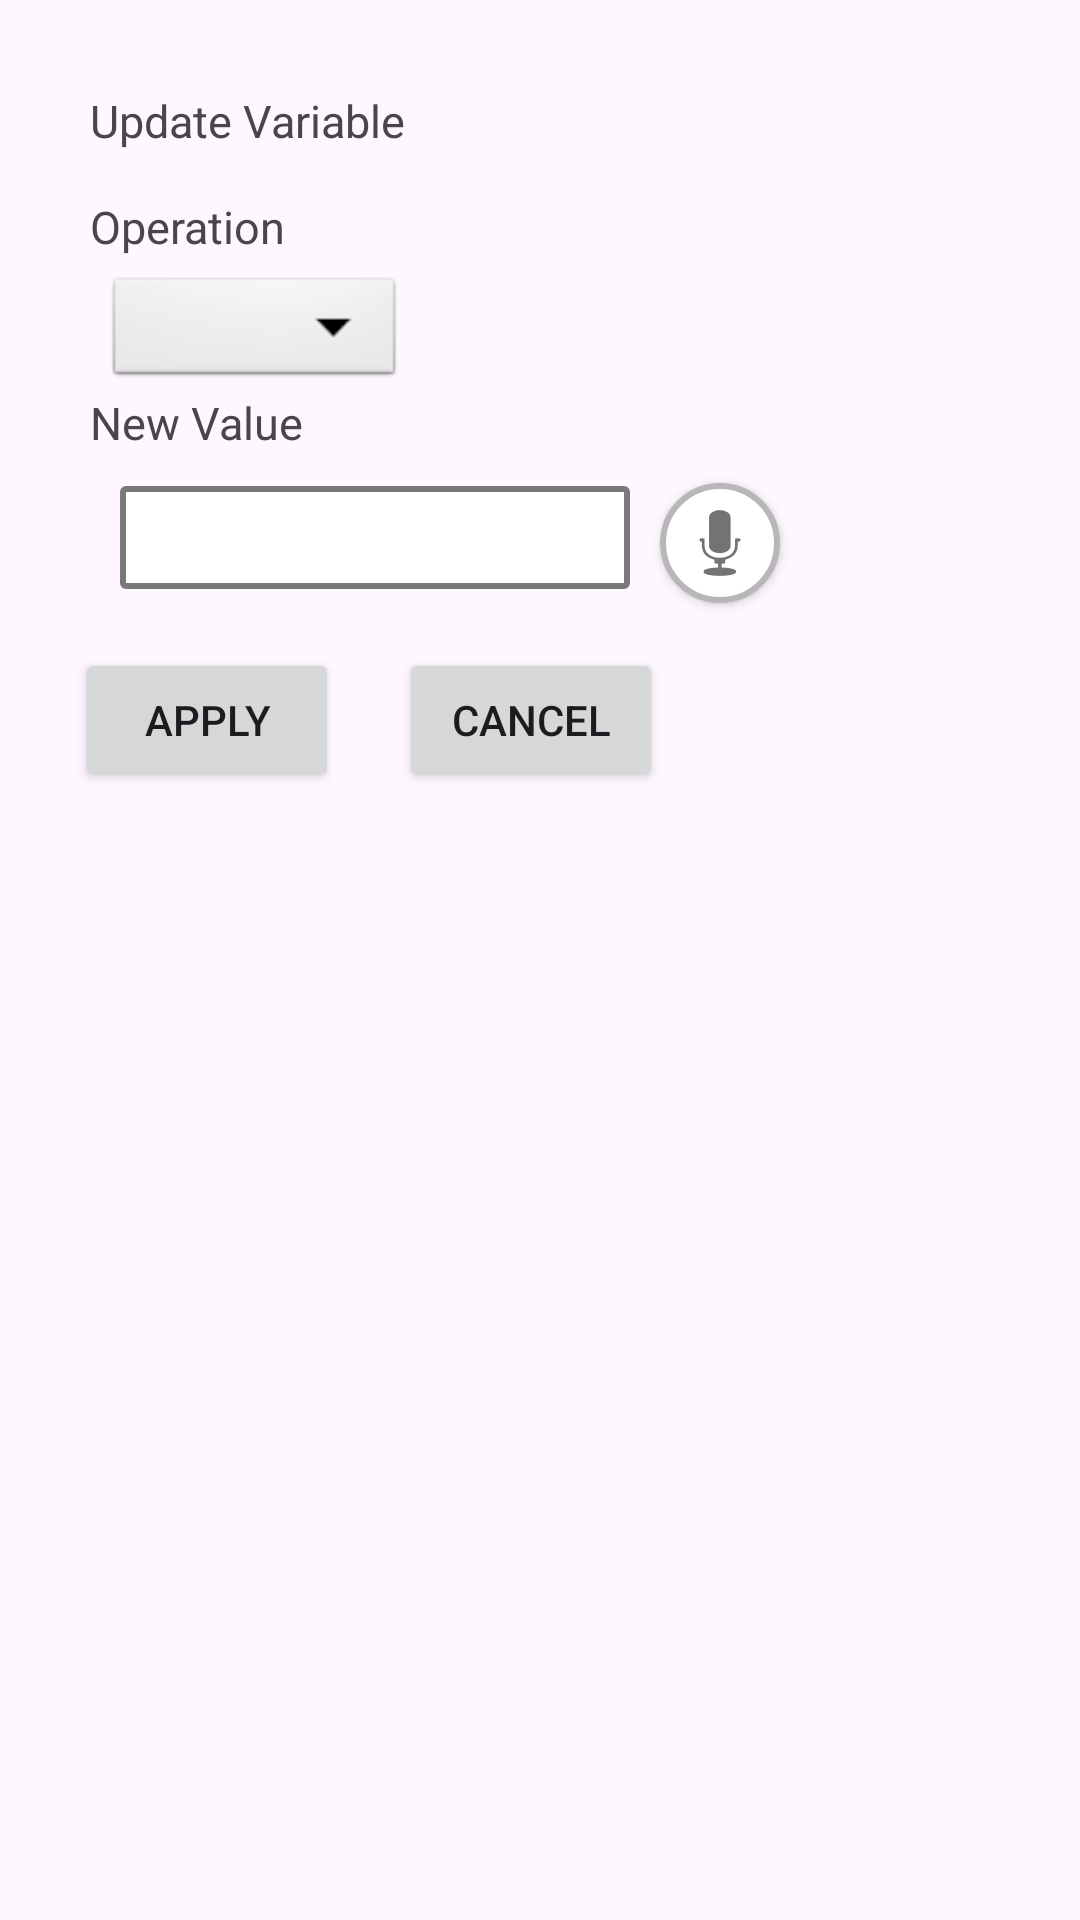

Named icons in this screenshot (1080 x 1920) and their bounding boxes, [x1,y1,x2,y2]:
microphone: [660,483,780,603]
